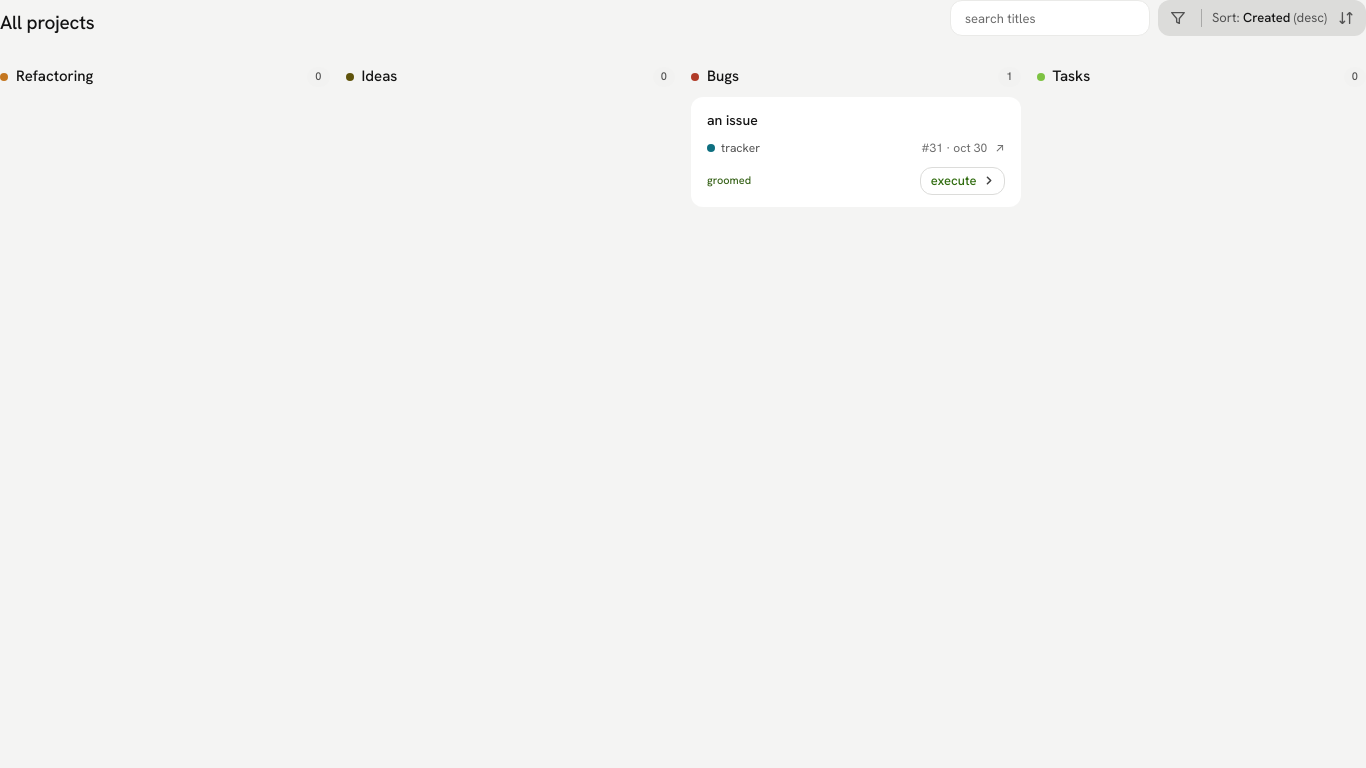
the item modal › renders the cached body with the poll age beside it, and asks GitHub for nothing
The width and height of the screenshot is (1366, 768).
Expected: the text "Bugs" is shown, x1=707 y1=66 x2=739 y2=87
Click the text "an issue" at (732, 120), box x1=707 y1=111 x2=758 y2=129
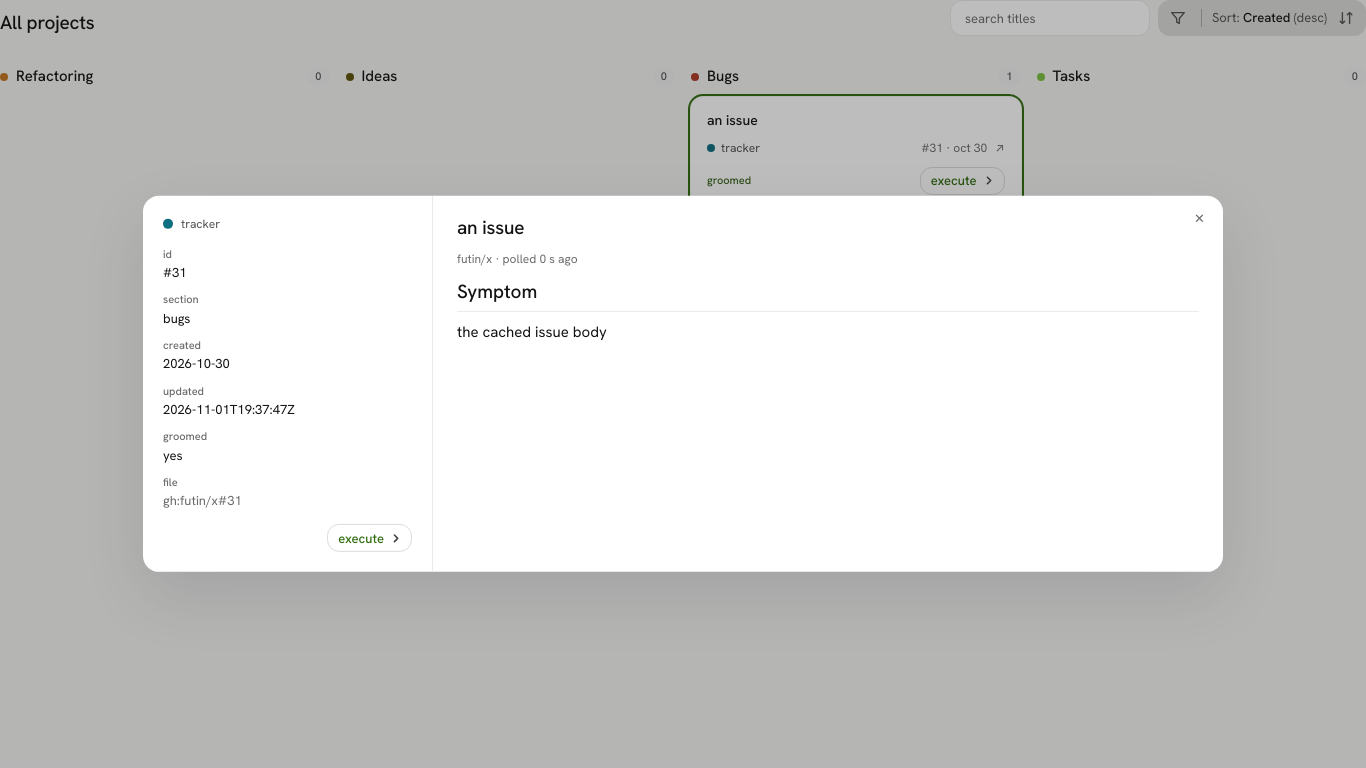
Expected: the text "the cached issue body" is shown, x1=457 y1=322 x2=607 y2=342
Expected: the text "futin/x · polled 0 s ago" is shown, x1=457 y1=251 x2=578 y2=267
